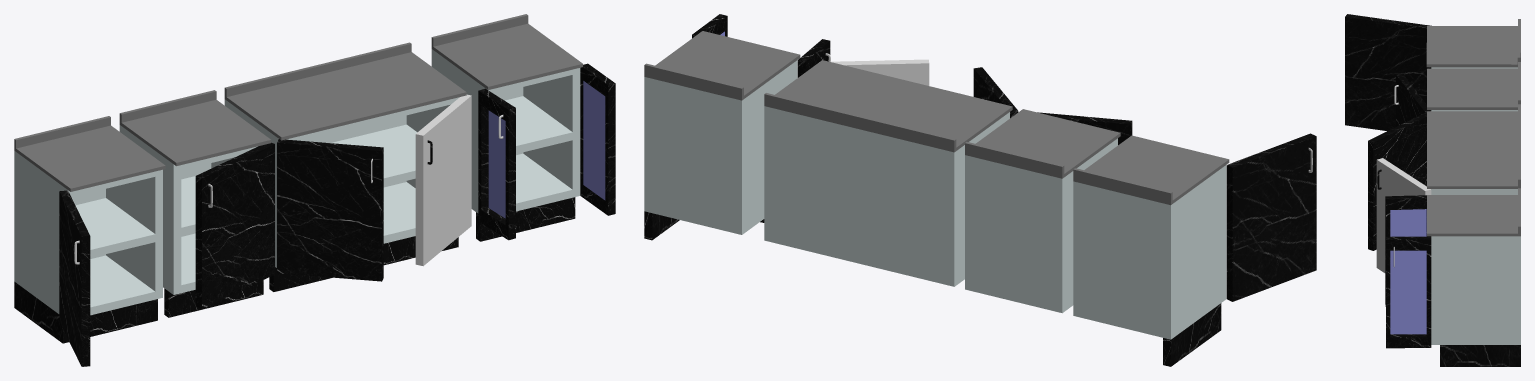
The model's file is cabin set.fbx.
3 views of the same model, side by side, from view 1: azimuth 30°, elevation 25°; view 2: azimuth 150°, elevation 25°; view 3: azimuth 270°, elevation 25° (orthographic). The views are drawn at different scales.
Parts seen in each view (by area): view 1: Cabinet1, Cabinet3_Door_L, Countertop3, Cabinet2_Door, Cabinet4, Cabinet3_Door_R, Cabinet3, Countertop2, Countertop4, Countertop1, Cabinet4_Door_L, Cabinet2 (+6 smaller); view 2: Cabinet3, Cabinet1, Cabinet4, Cabinet2, Cabinet1_Door, Countertop3, Countertop1, Countertop4, Countertop2, Baseboard1, Cabinet3_Door_R, Cabinet3_Door_L (+3 smaller); view 3: Cabinet4, Cabinet1_Door, Countertop3, Cabinet4_Door_R, Countertop1, Countertop4, Countertop2, Cabinet3_Door_L, Cabinet3_Door_R, Cabinet4_Door_L, Baseboard4, Cabinet2_Door (+3 smaller).
Boxes of the visible parts, box(x1,y1,x2,y2) form: Cabinet1: box(14, 151, 162, 315); Cabinet3_Door_L: box(277, 139, 383, 281); Countertop3: box(224, 42, 466, 140); Cabinet2_Door: box(195, 142, 274, 308); Cabinet4: box(431, 49, 580, 213); Cabinet3_Door_R: box(415, 94, 471, 266); Cabinet3: box(224, 97, 459, 267); Countertop2: box(119, 90, 271, 166); Countertop4: box(431, 14, 582, 89); Countertop1: box(14, 116, 165, 191); Cabinet4_Door_L: box(478, 88, 515, 240); Cabinet2: box(119, 125, 257, 294); Cabinet3: box(764, 106, 1009, 286); Cabinet1: box(1073, 165, 1226, 339); Cabinet4: box(644, 60, 797, 234); Cabinet2: box(965, 138, 1117, 313); Cabinet1_Door: box(1226, 133, 1316, 301); Countertop3: box(764, 60, 1012, 152); Countertop1: box(1073, 135, 1229, 205); Countertop4: box(644, 31, 800, 100); Countertop2: box(965, 109, 1120, 178); Baseboard1: box(1163, 303, 1221, 366); Cabinet3_Door_R: box(830, 59, 929, 85); Cabinet3_Door_L: box(973, 67, 1018, 118); Cabinet4: box(1431, 236, 1520, 344); Cabinet1_Door: box(1345, 14, 1431, 131); Countertop3: box(1427, 104, 1520, 188); Cabinet4_Door_R: box(1386, 236, 1431, 348); Countertop1: box(1426, 19, 1520, 67); Countertop4: box(1427, 188, 1520, 236); Countertop2: box(1427, 62, 1520, 109); Cabinet3_Door_L: box(1368, 112, 1426, 250); Cabinet3_Door_R: box(1376, 158, 1431, 272); Cabinet4_Door_L: box(1385, 195, 1430, 306); Baseboard4: box(1440, 345, 1520, 366); Cabinet2_Door: box(1396, 73, 1431, 126).
Size of the model in its own units: 356 by 102 by 116.
6 materials, 1 textured.
